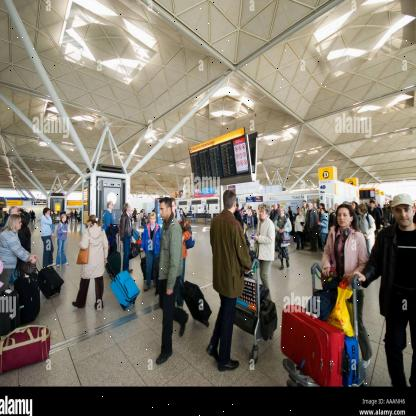airport-trolley: (282, 261, 366, 387), (221, 252, 277, 364)
